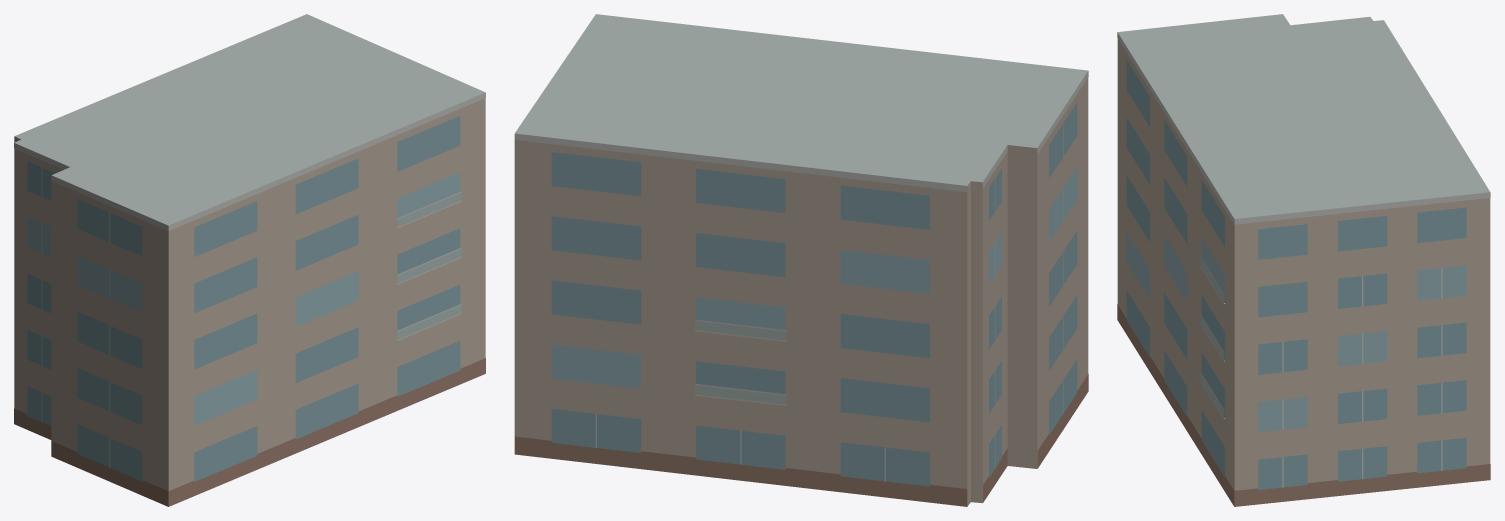
The model's file is survey-upis-32918232.glb.
3 renders of one model, left to right at view 1: azimuth 30°, elevation 25°; view 2: azimuth 150°, elevation 25°; view 3: azimuth 270°, elevation 25°, orthographic. The views are drawn at different scales.
Parts seen in each view (by area): view 1: survey-upis-32918232.tmp; view 2: survey-upis-32918232.tmp; view 3: survey-upis-32918232.tmp.
Part boxes in pixels (x1,y1,x2,y2): survey-upis-32918232.tmp: (14, 14, 485, 506); survey-upis-32918232.tmp: (514, 14, 1088, 506); survey-upis-32918232.tmp: (1117, 14, 1490, 506).
Size of the model in its own units: 18.96 by 12.4 by 14.57.
